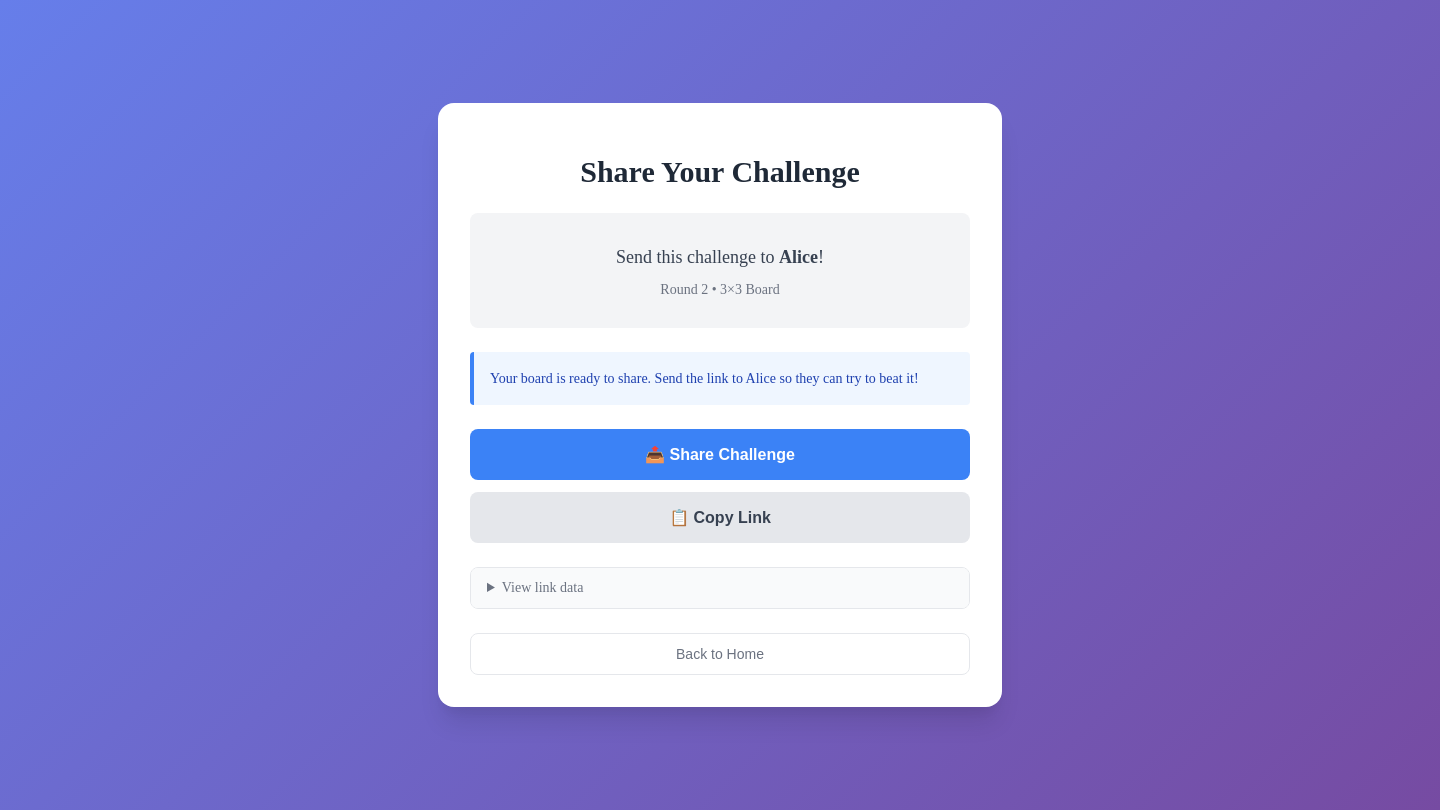
ShareChallenge › Custom text props › should render custom confirmDismissText on the dismiss button in confirm modal
The width and height of the screenshot is (1440, 810).
Trigger the confirm modal
Step 1. Click the button "Back to Home" → (720, 654), box x1=470 y1=633 x2=970 y2=675
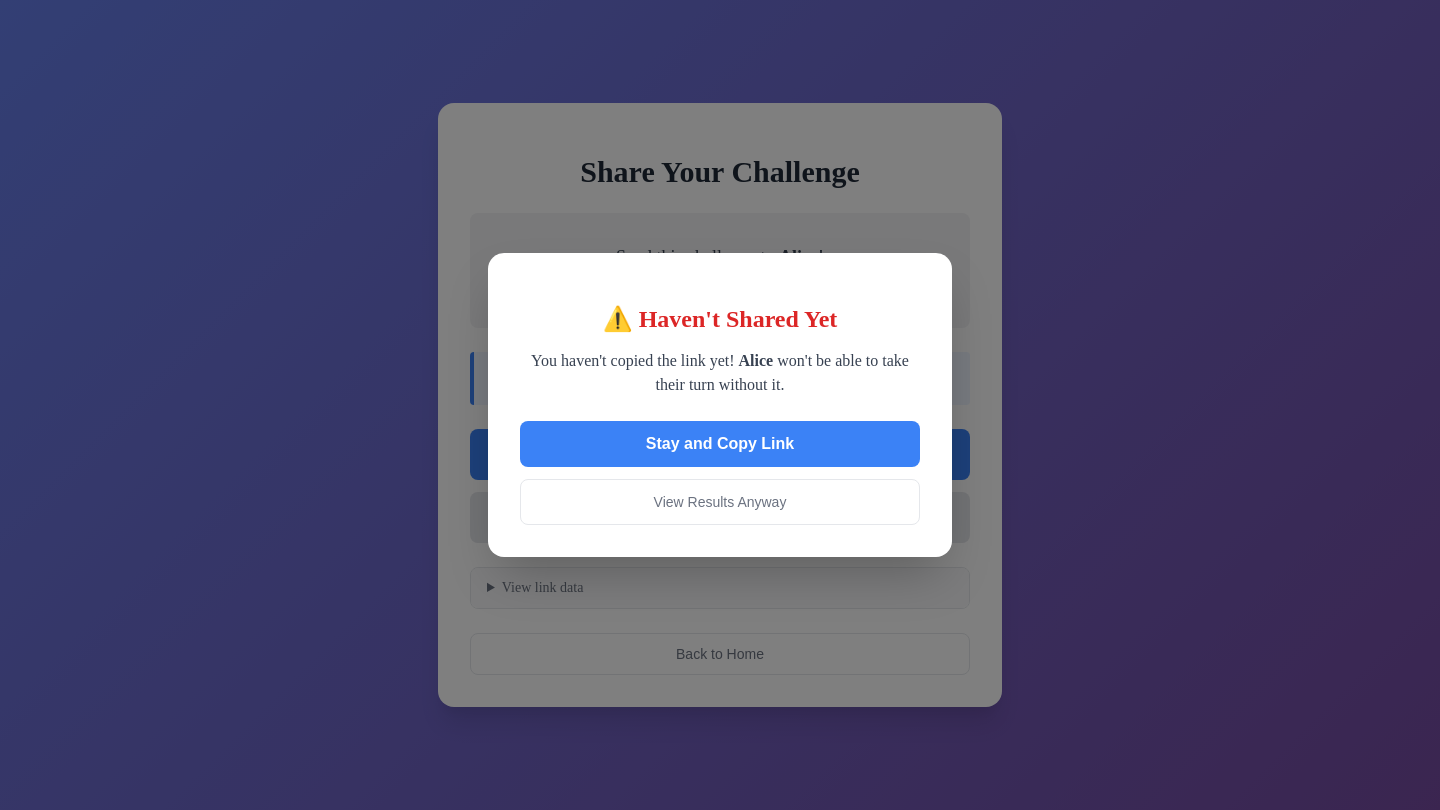
Now the button "View Results Anyway" is shown, box x1=520 y1=479 x2=920 y2=525
